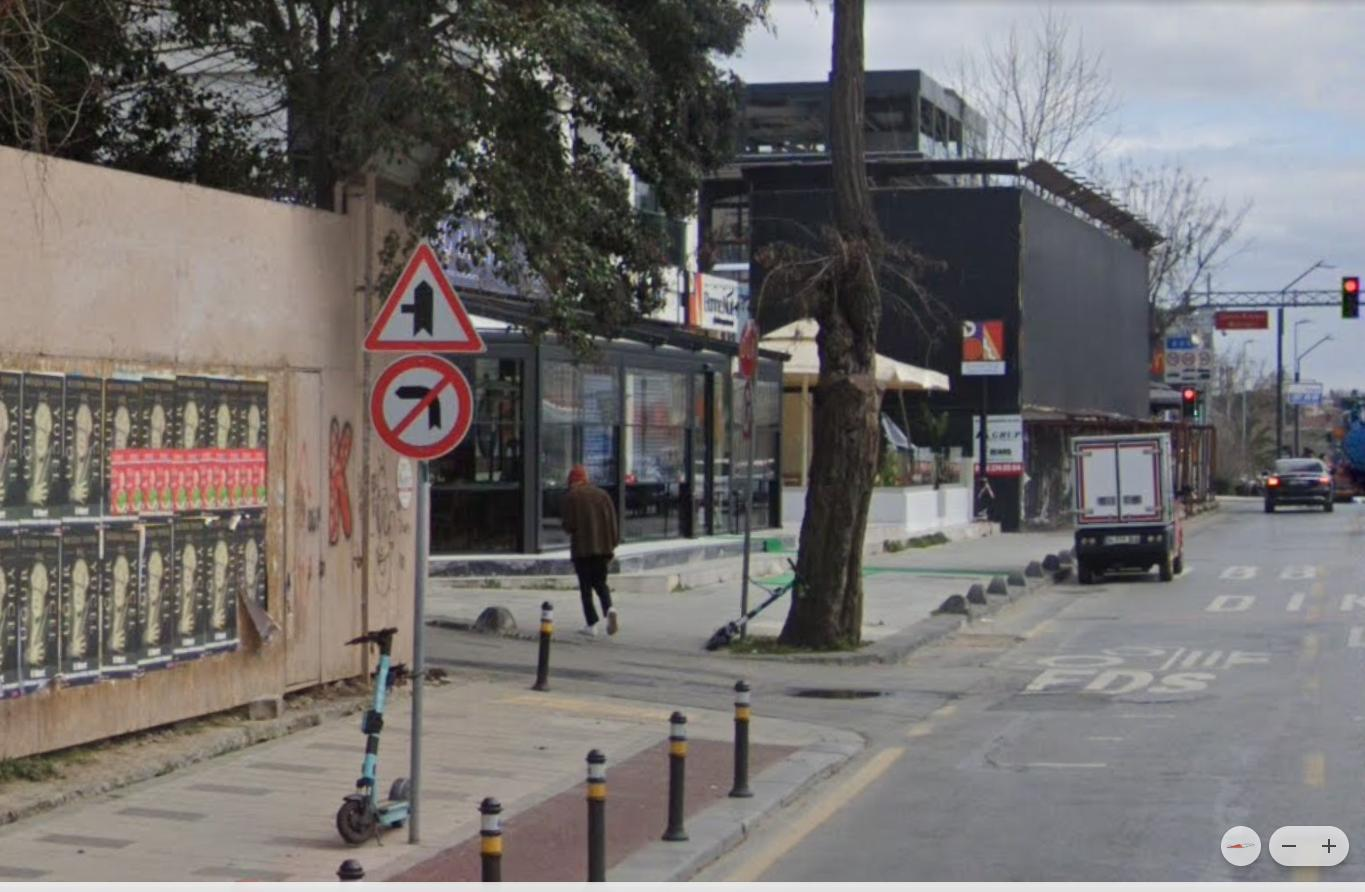leftturnsareforbidden: (376, 361, 471, 458)
redlight: (1342, 277, 1359, 322), (1182, 387, 1195, 418)
